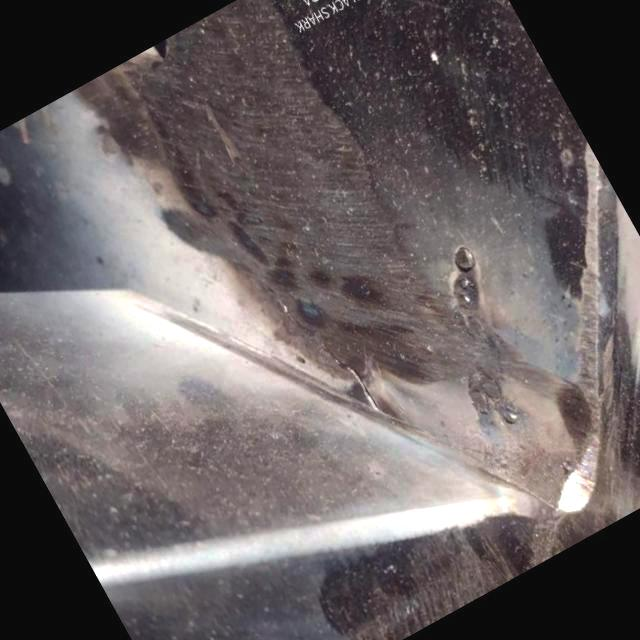defect: (275, 293, 387, 420)
